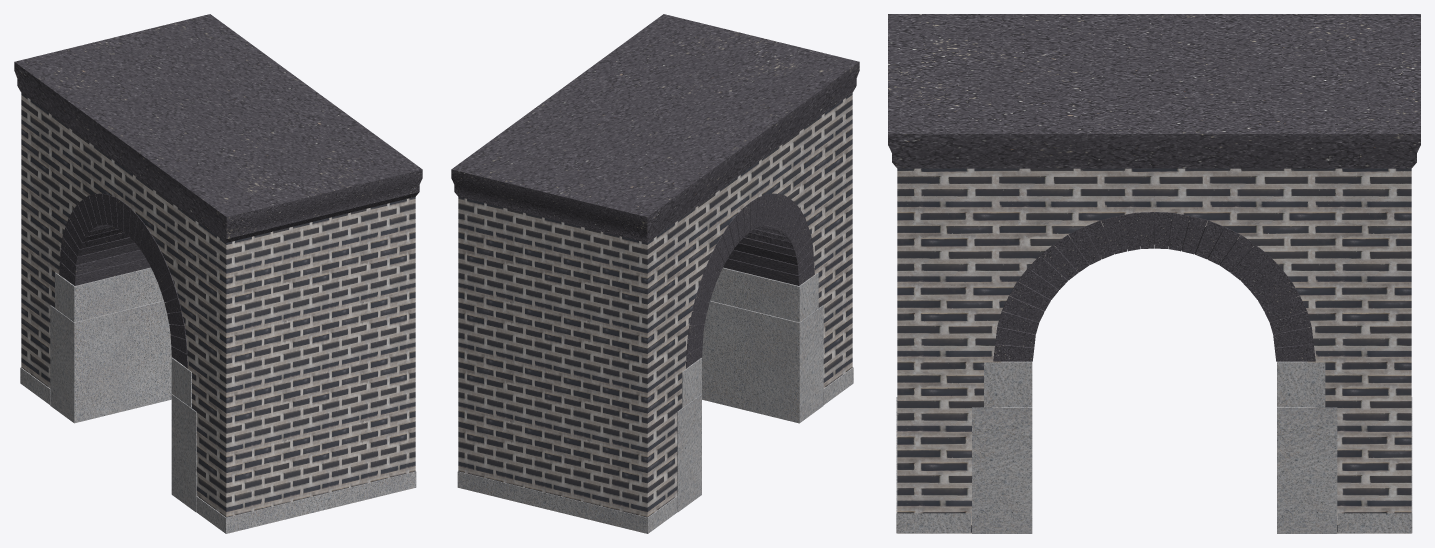
Rendered from SM_D_Arched_1.fbx.
The picture shows the model from 3 angles, left to right: view 1: azimuth 30°, elevation 25°; view 2: azimuth 150°, elevation 25°; view 3: azimuth 270°, elevation 25°; orthographic projection. The views are drawn at different scales.
Parts seen in each view (by area): view 1: SM_D_Arched_1; view 2: SM_D_Arched_1; view 3: SM_D_Arched_1.
Boxes of the visible parts, box(x1,y1,x2,y2) form: SM_D_Arched_1: box(14, 14, 422, 533); SM_D_Arched_1: box(451, 14, 859, 533); SM_D_Arched_1: box(888, 14, 1420, 533).
Size of the model in its own units: 188 by 353 by 293.
3 materials, 3 textured.
